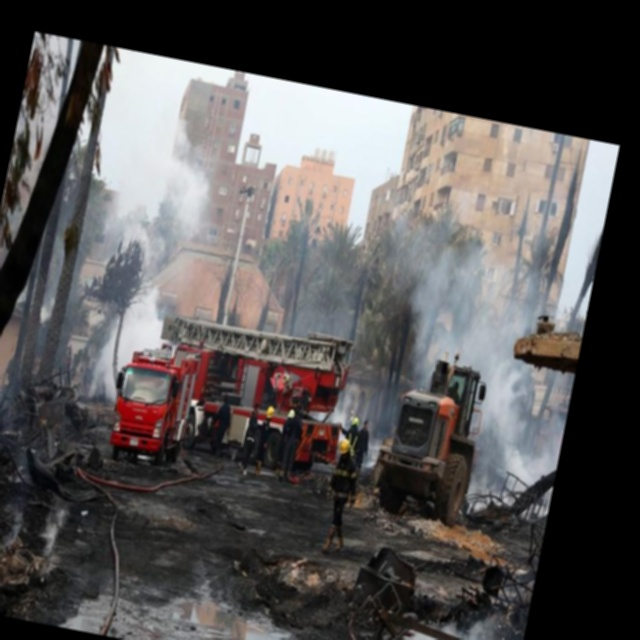Fire-truck: (81, 320, 217, 484)
person: (315, 437, 367, 557), (276, 407, 308, 484), (208, 392, 237, 465), (237, 401, 264, 476), (252, 405, 276, 478), (273, 408, 296, 476), (446, 380, 464, 404)
